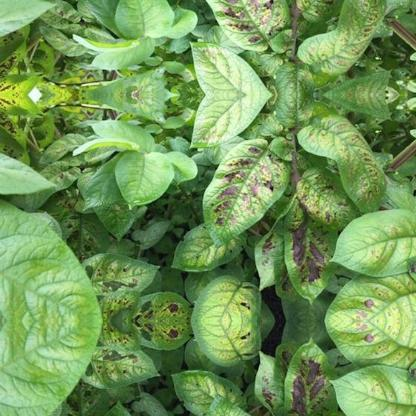Early-Blight: (293, 115, 395, 210), (200, 136, 288, 242), (40, 152, 120, 264), (293, 0, 395, 73), (72, 246, 157, 320), (72, 320, 157, 394), (279, 200, 339, 302), (319, 264, 415, 320), (319, 320, 415, 376), (279, 338, 339, 416), (199, 0, 288, 51), (296, 161, 358, 225), (40, 376, 120, 416), (40, 0, 120, 36), (126, 284, 192, 320), (126, 320, 192, 356), (295, 0, 358, 27)
